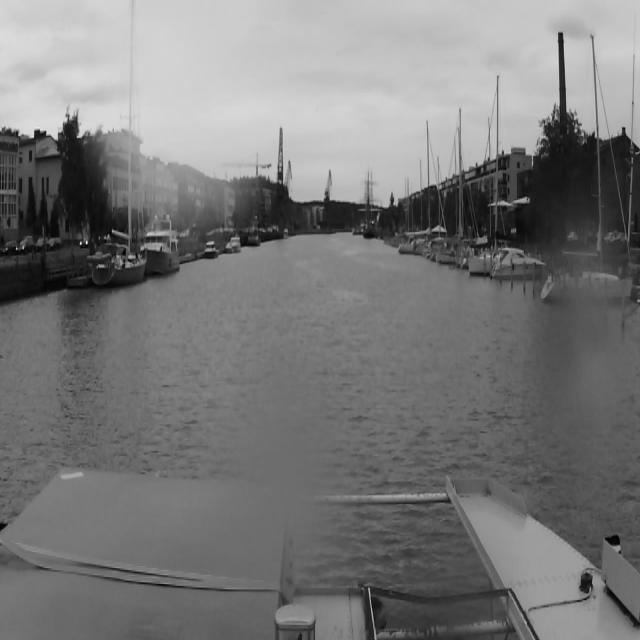ship: (538, 31, 636, 304), (90, 0, 146, 292), (146, 214, 182, 271), (490, 245, 540, 281), (205, 242, 219, 260), (226, 236, 241, 252)
